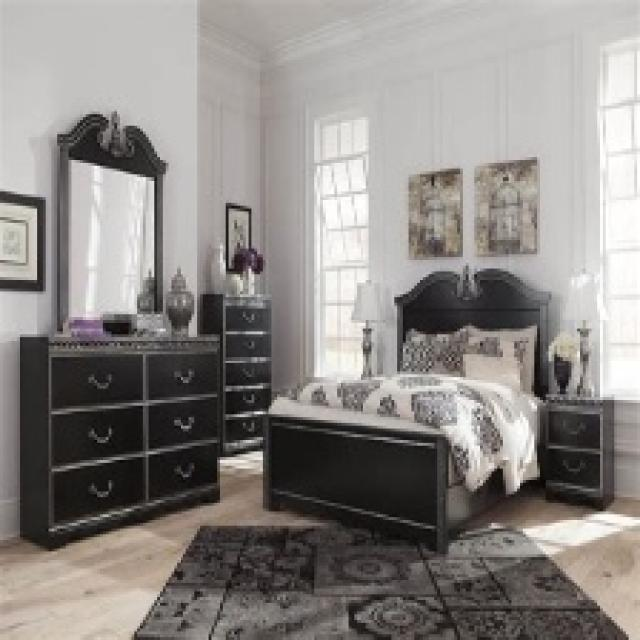Bed: (260, 263, 551, 551)
